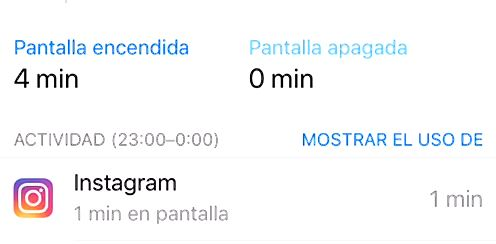activity: (8, 126, 227, 153)
app: (8, 168, 486, 233)
